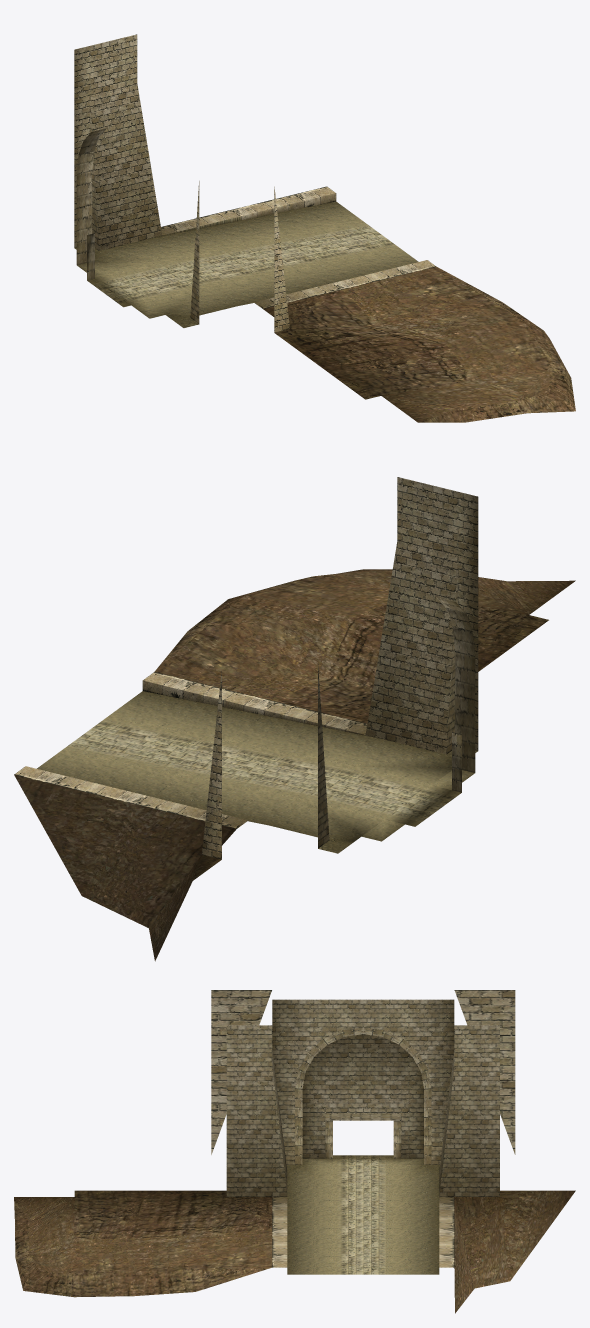
File: M12B_Fake_Landscape02.glb
3 views of the same model, one above another, from view 1: azimuth 30°, elevation 25°; view 2: azimuth 150°, elevation 25°; view 3: azimuth 270°, elevation 25° (orthographic). The views are drawn at different scales.
Visible parts, largest first — view 1: M12B_FAKE_LANDSCAPE02; view 2: M12B_FAKE_LANDSCAPE02; view 3: M12B_FAKE_LANDSCAPE02.
Part boxes in pixels (<box>): M12B_FAKE_LANDSCAPE02: <box>74,34,575,422</box>; M12B_FAKE_LANDSCAPE02: <box>14,477,575,961</box>; M12B_FAKE_LANDSCAPE02: <box>14,990,575,1313</box>.
Size of the model in its own units: 19.45 by 17.23 by 37.
Materials: 8 (8 with a texture image).
